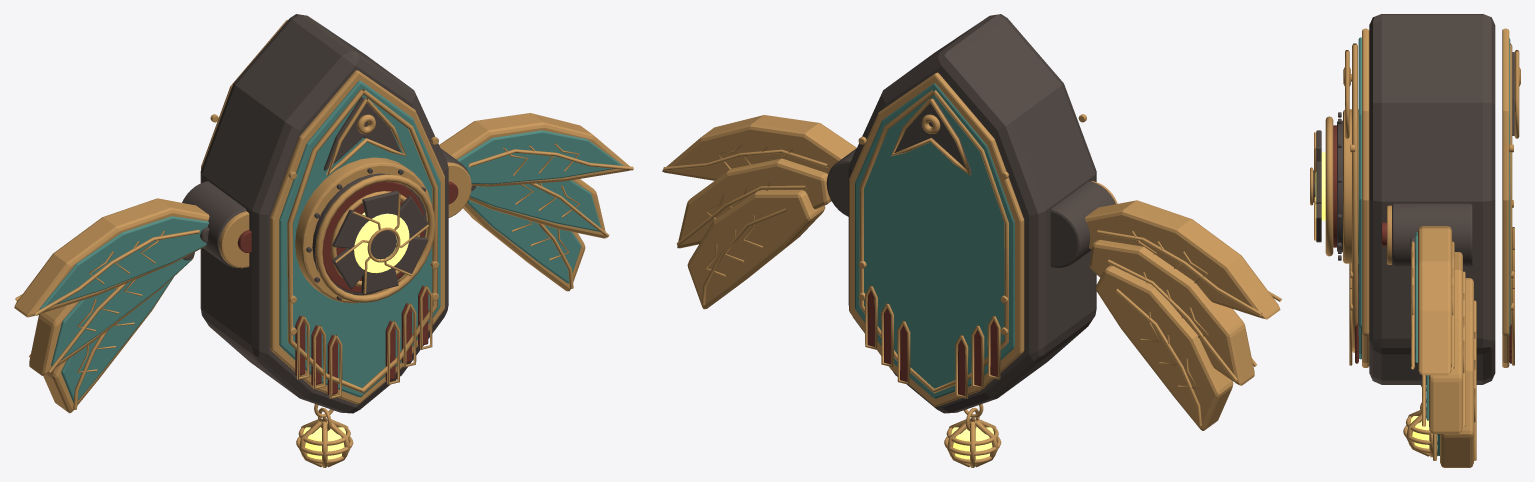
File: Sentinel.fbx
3 views of the same model, side by side, from view 1: azimuth 30°, elevation 25°; view 2: azimuth 150°, elevation 25°; view 3: azimuth 270°, elevation 25° (orthographic).
Parts seen in each view (by area): view 1: Chassis_Mesh, FeatherLeft0_Mesh, FeatherRight0_Mesh, FeatherLeft1_Mesh, FeatherRight1_Mesh, FeatherRight2_Mesh, FeatherLeft2_Mesh, WingLeft_Mesh, Aperture_Mesh, Censer_Mesh, WingRight_Mesh, Shutter0_Mesh (+5 smaller); view 2: Chassis_Mesh, FeatherLeft0_Mesh, FeatherLeft2_Mesh, FeatherRight2_Mesh, FeatherRight0_Mesh, FeatherLeft1_Mesh, FeatherRight1_Mesh, WingLeft_Mesh, Censer_Mesh, WingRight_Mesh; view 3: Chassis_Mesh, FeatherRight0_Mesh, FeatherRight1_Mesh, WingRight_Mesh, FeatherRight2_Mesh, Censer_Mesh, Aperture_Mesh, Shutter2_Mesh, Shutter0_Mesh, Shutter1_Mesh.
Boxes of the visible parts, bbox=[...] form: Chassis_Mesh: bbox=[200, 14, 448, 413]; FeatherLeft0_Mesh: bbox=[14, 198, 209, 317]; FeatherRight0_Mesh: bbox=[439, 113, 633, 186]; FeatherLeft1_Mesh: bbox=[29, 252, 194, 375]; FeatherRight1_Mesh: bbox=[468, 179, 609, 238]; FeatherRight2_Mesh: bbox=[463, 200, 585, 291]; FeatherLeft2_Mesh: bbox=[43, 277, 173, 413]; WingLeft_Mesh: bbox=[182, 181, 251, 268]; Aperture_Mesh: bbox=[354, 212, 409, 273]; Censer_Mesh: bbox=[296, 404, 353, 467]; WingRight_Mesh: bbox=[441, 148, 471, 217]; Shutter0_Mesh: bbox=[362, 190, 400, 230]; Chassis_Mesh: bbox=[848, 14, 1096, 413]; FeatherLeft0_Mesh: bbox=[1085, 200, 1281, 319]; FeatherLeft2_Mesh: bbox=[1095, 265, 1233, 430]; FeatherRight2_Mesh: bbox=[687, 190, 825, 309]; FeatherRight0_Mesh: bbox=[662, 115, 856, 180]; FeatherLeft1_Mesh: bbox=[1089, 239, 1256, 385]; FeatherRight1_Mesh: bbox=[676, 158, 831, 248]; WingLeft_Mesh: bbox=[1050, 181, 1117, 267]; Censer_Mesh: bbox=[944, 404, 1001, 467]; WingRight_Mesh: bbox=[826, 148, 856, 216]; Chassis_Mesh: bbox=[1325, 14, 1520, 384]; FeatherRight0_Mesh: bbox=[1410, 226, 1454, 375]; FeatherRight1_Mesh: bbox=[1422, 252, 1465, 433]; WingRight_Mesh: bbox=[1381, 203, 1472, 267]; FeatherRight2_Mesh: bbox=[1433, 278, 1476, 467]; Censer_Mesh: bbox=[1403, 385, 1437, 457]; Aperture_Mesh: bbox=[1310, 152, 1325, 220]; Shutter2_Mesh: bbox=[1314, 203, 1321, 241]; Shutter0_Mesh: bbox=[1314, 130, 1321, 183]; Shutter1_Mesh: bbox=[1314, 161, 1321, 204].
Size of the model in its own units: 220 by 150 by 65.2.
